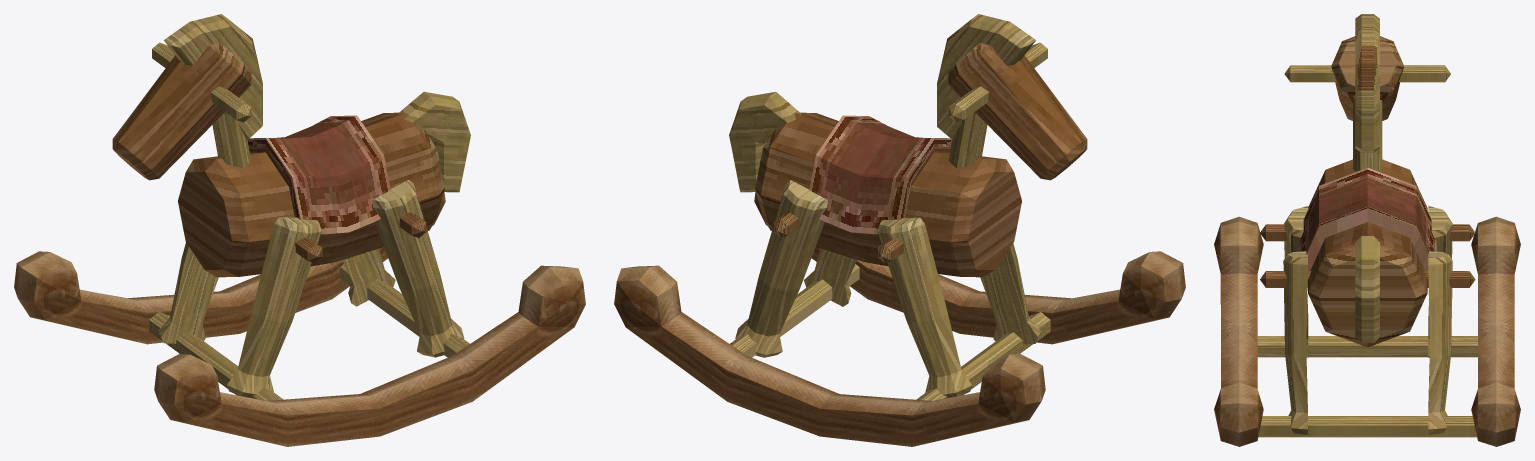
The model's file is ZV25OQFDCF0KO08RHBS5C5GC3.fbx.
3 views of the same model, side by side, from view 1: azimuth 30°, elevation 25°; view 2: azimuth 150°, elevation 25°; view 3: azimuth 270°, elevation 25° (orthographic). The views are drawn at different scales.
Visible parts, largest first — view 1: Object_ColAlphY_moku_0.jpg, Object_ColAlphY_moku_2.jpg, Object_ColAlphY_moku_1.jpg; view 2: Object_ColAlphY_moku_0.jpg, Object_ColAlphY_moku_2.jpg, Object_ColAlphY_moku_1.jpg; view 3: Object_ColAlphY_moku_0.jpg, Object_ColAlphY_moku_2.jpg, Object_ColAlphY_moku_1.jpg.
Boxes of the visible parts, x1=… form: Object_ColAlphY_moku_0.jpg: x1=112, y1=14, x2=470, y2=400; Object_ColAlphY_moku_2.jpg: x1=14, y1=192, x2=585, y2=446; Object_ColAlphY_moku_1.jpg: x1=247, y1=115, x2=390, y2=234; Object_ColAlphY_moku_0.jpg: x1=729, y1=14, x2=1087, y2=400; Object_ColAlphY_moku_2.jpg: x1=614, y1=192, x2=1185, y2=446; Object_ColAlphY_moku_1.jpg: x1=809, y1=115, x2=952, y2=234; Object_ColAlphY_moku_0.jpg: x1=1257, y1=14, x2=1478, y2=437; Object_ColAlphY_moku_2.jpg: x1=1214, y1=216, x2=1520, y2=446; Object_ColAlphY_moku_1.jpg: x1=1298, y1=167, x2=1436, y2=270.
Size of the model in its own units: 2.5 by 2.14 by 1.71.
Materials: 3 (3 with a texture image).
